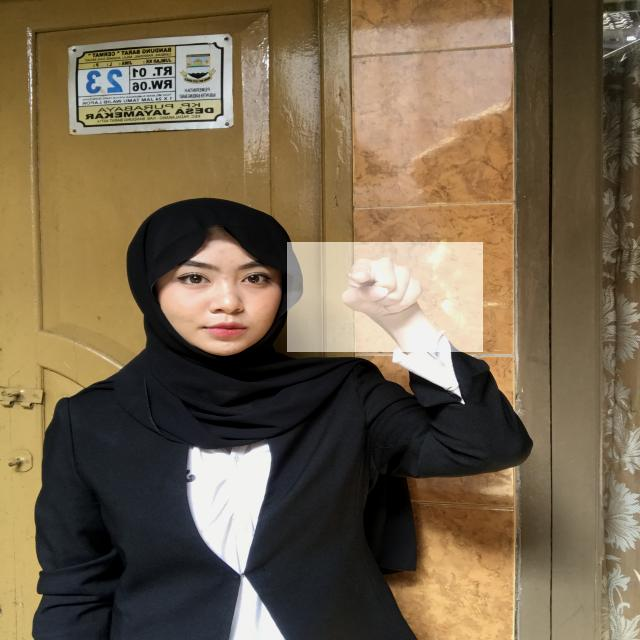kamu: (287, 242, 483, 352)
